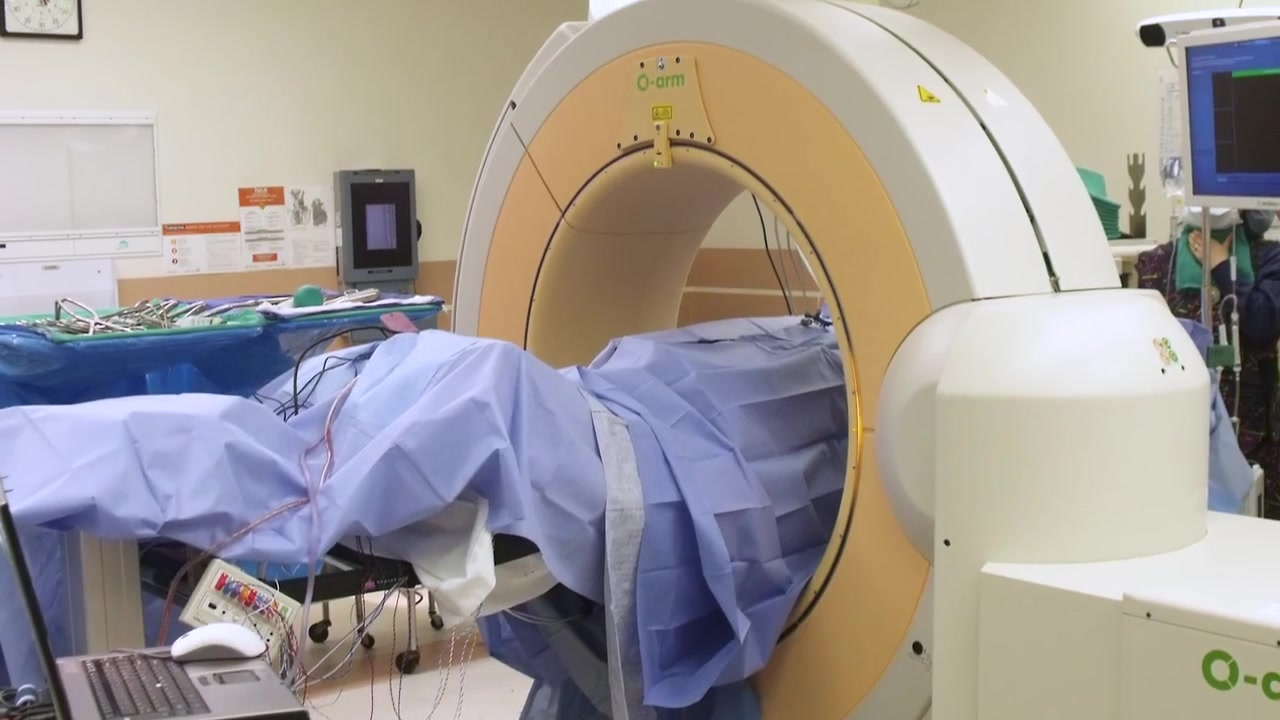bedside_monitor: (1175, 20, 1280, 211)
computer: (1, 499, 312, 720), (333, 168, 419, 283)
keyboard: (82, 649, 213, 720)
mouse: (171, 621, 267, 660)
patient: (293, 319, 1213, 533)
surgical_instrument: (14, 295, 263, 344), (237, 284, 446, 324)
xray_bed: (1, 341, 836, 633)
xray_machine: (449, 1, 1125, 720)
